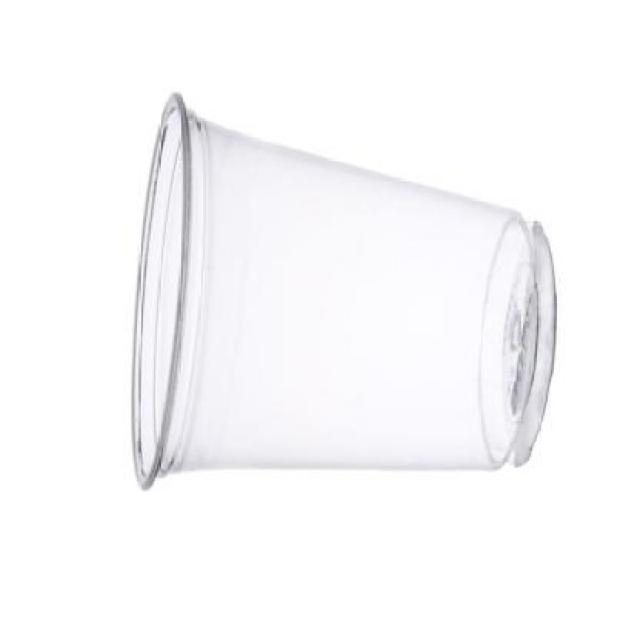Plastic: (131, 90, 556, 490)
